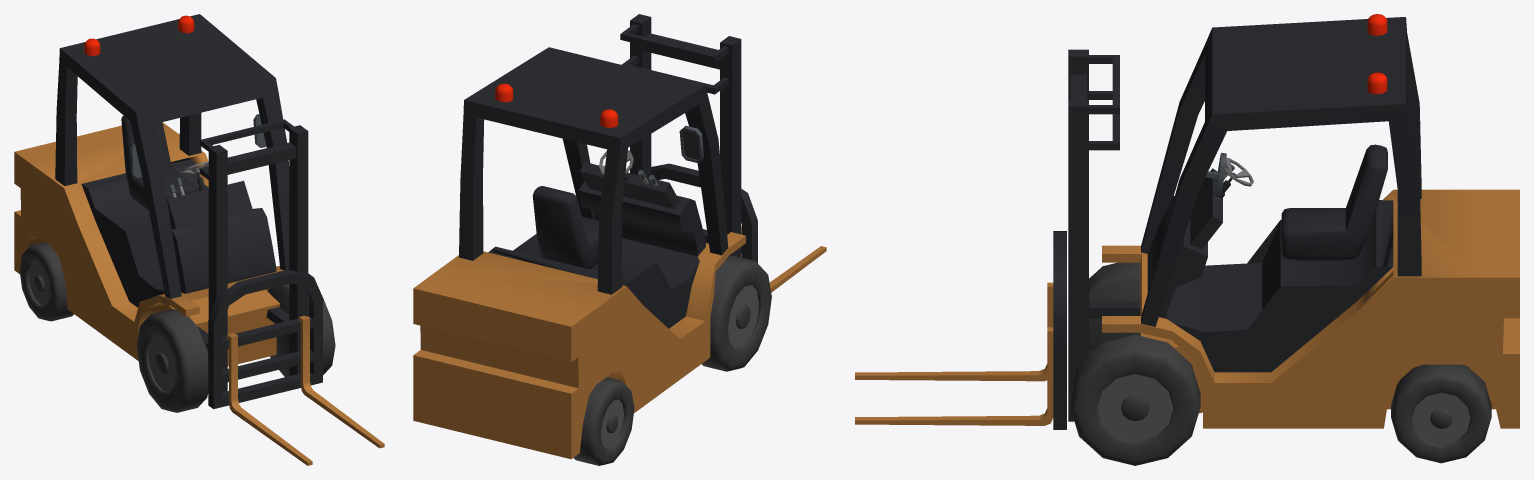
File: ForkLift_1.fbx
3 views of the same model, side by side, from view 1: azimuth 30°, elevation 25°; view 2: azimuth 150°, elevation 25°; view 3: azimuth 270°, elevation 25° (orthographic). The views are drawn at different scales.
Visible parts, largest first — view 1: ForkLift_1; view 2: ForkLift_1; view 3: ForkLift_1.
Boxes of the visible parts, x1,y1,x2,y2 form: ForkLift_1: (14,14,384,465); ForkLift_1: (413,14,826,465); ForkLift_1: (855,14,1519,465).
Size of the model in its own units: 132 by 236 by 380.
